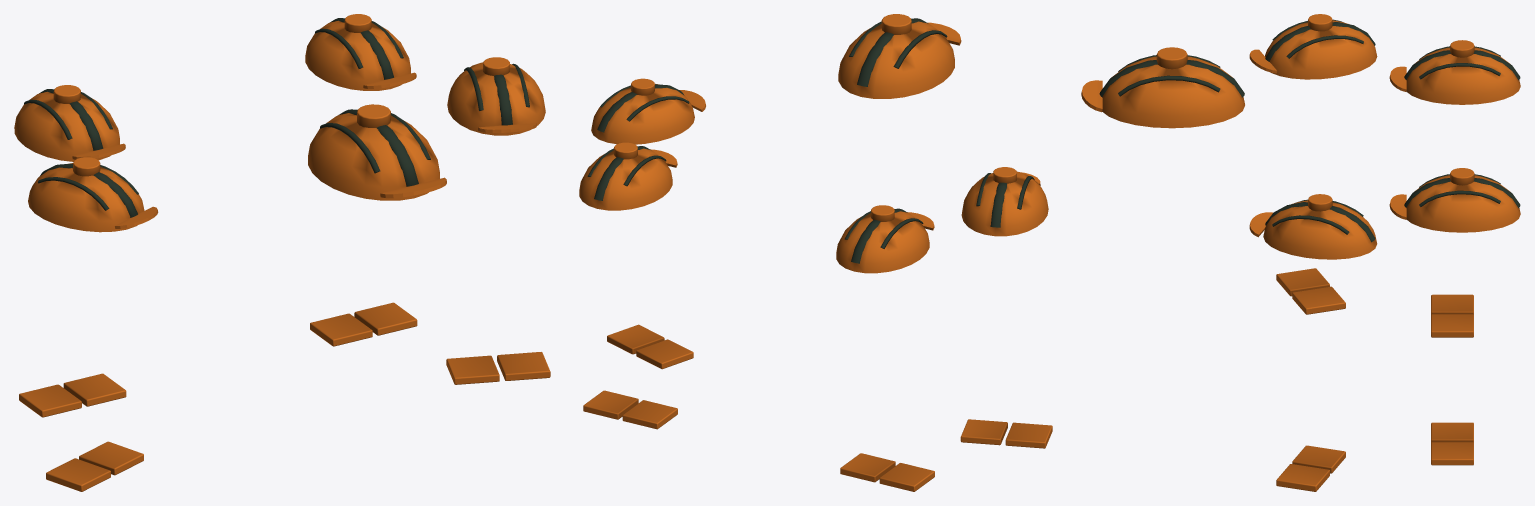
The model's file is trail-shredders-lod0.glb.
3 views of the same model, side by side, from view 1: azimuth 30°, elevation 25°; view 2: azimuth 150°, elevation 25°; view 3: azimuth 270°, elevation 25° (orthographic). The views are drawn at different scales.
Visible parts, largest first — view 1: cap_hat, att3_hat, att0_hat, att1_hat, att2_hat, att3_leg_r_trim, att1_leg_r_trim, att0_leg_r_trim, att0_leg_l_trim, att1_leg_l_trim, att2_leg_r_trim, att2_leg_l_trim (+1 smaller); view 2: cap_hat, att2_hat, att0_hat, att1_hat, att3_hat, att2_leg_r_trim, att0_leg_r_trim, att1_leg_r_trim, att1_leg_l_trim, att0_leg_l_trim, att3_leg_l_trim, att3_leg_r_trim (+1 smaller); view 3: cap_hat, att0_hat, att1_hat, att2_hat, att3_hat, att3_leg_l_trim, att2_leg_l_trim, att1_leg_l_trim, att0_leg_l_trim, att3_leg_r_trim, att2_leg_r_trim, att1_leg_r_trim (+1 smaller).
Part boxes in pixels (x1,y1,x2,y2): cap_hat: [308, 104, 446, 200]; att3_hat: [28, 157, 158, 232]; att0_hat: [305, 14, 416, 90]; att1_hat: [14, 85, 125, 161]; att2_hat: [447, 57, 545, 135]; att3_leg_r_trim: [46, 458, 110, 491]; att1_leg_r_trim: [19, 384, 81, 417]; att0_leg_r_trim: [310, 313, 372, 346]; att0_leg_l_trim: [354, 302, 417, 335]; att1_leg_l_trim: [63, 373, 126, 406]; att2_leg_r_trim: [446, 355, 499, 384]; att2_leg_l_trim: [497, 352, 550, 380]; cap_hat: [838, 14, 961, 98]; att2_hat: [591, 78, 705, 144]; att0_hat: [579, 142, 677, 210]; att1_hat: [836, 205, 934, 273]; att3_hat: [961, 167, 1048, 236]; att2_leg_r_trim: [636, 339, 693, 369]; att0_leg_r_trim: [622, 400, 677, 429]; att1_leg_r_trim: [879, 463, 934, 491]; att1_leg_l_trim: [840, 453, 895, 482]; att0_leg_l_trim: [583, 390, 638, 419]; att3_leg_l_trim: [960, 419, 1007, 445]; att3_leg_r_trim: [1005, 422, 1052, 448]; cap_hat: [1081, 47, 1244, 128]; att0_hat: [1389, 168, 1520, 232]; att1_hat: [1389, 40, 1520, 104]; att2_hat: [1249, 194, 1377, 259]; att3_hat: [1249, 14, 1377, 79]; att3_leg_l_trim: [1292, 286, 1345, 314]; att2_leg_l_trim: [1276, 464, 1329, 491]; att1_leg_l_trim: [1431, 314, 1473, 337]; att0_leg_l_trim: [1431, 442, 1473, 465]; att3_leg_r_trim: [1276, 268, 1329, 296]; att2_leg_r_trim: [1292, 445, 1345, 473]; att1_leg_r_trim: [1431, 294, 1473, 314].
Bounding box in the file's own units: 2.12 × 1.49 × 1.8.
